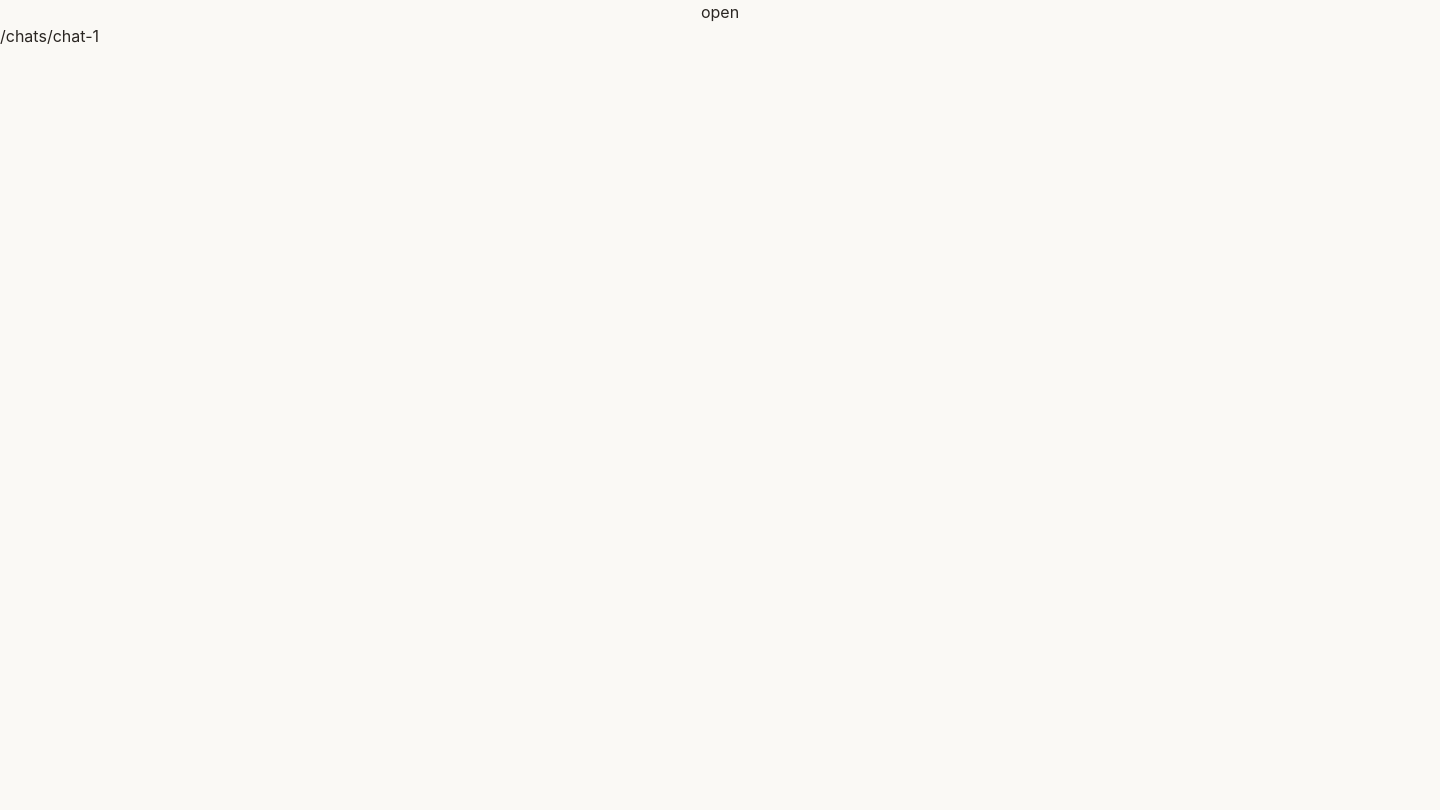
it: CommandPalette › switches language instantly; the palette relabels on next open
Step 1. Press k
(page scrolled)
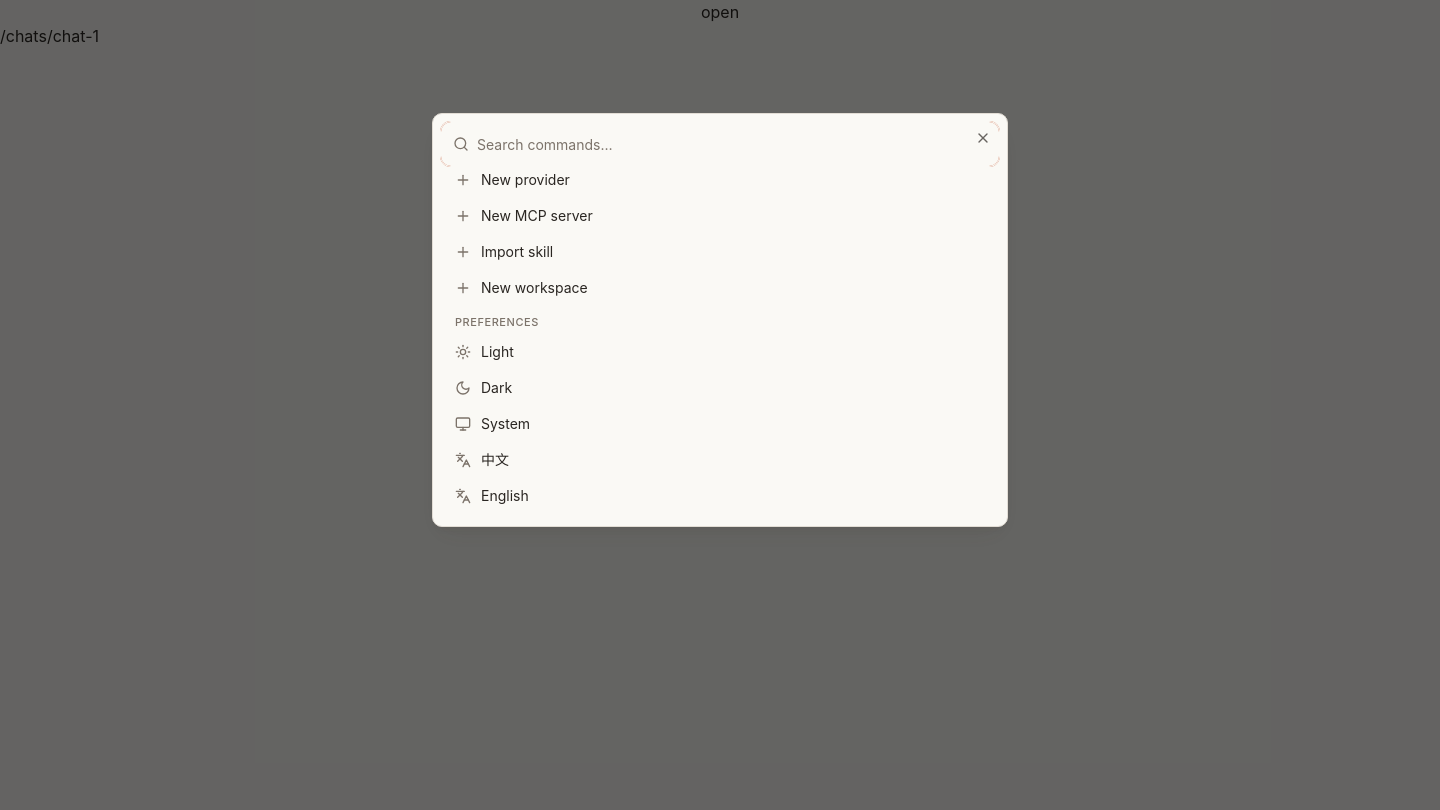
Result: the dialog is shown at [432,113,1008,527]
Step 2. Click the option "中文" → (463, 460), box [445,442,995,478]
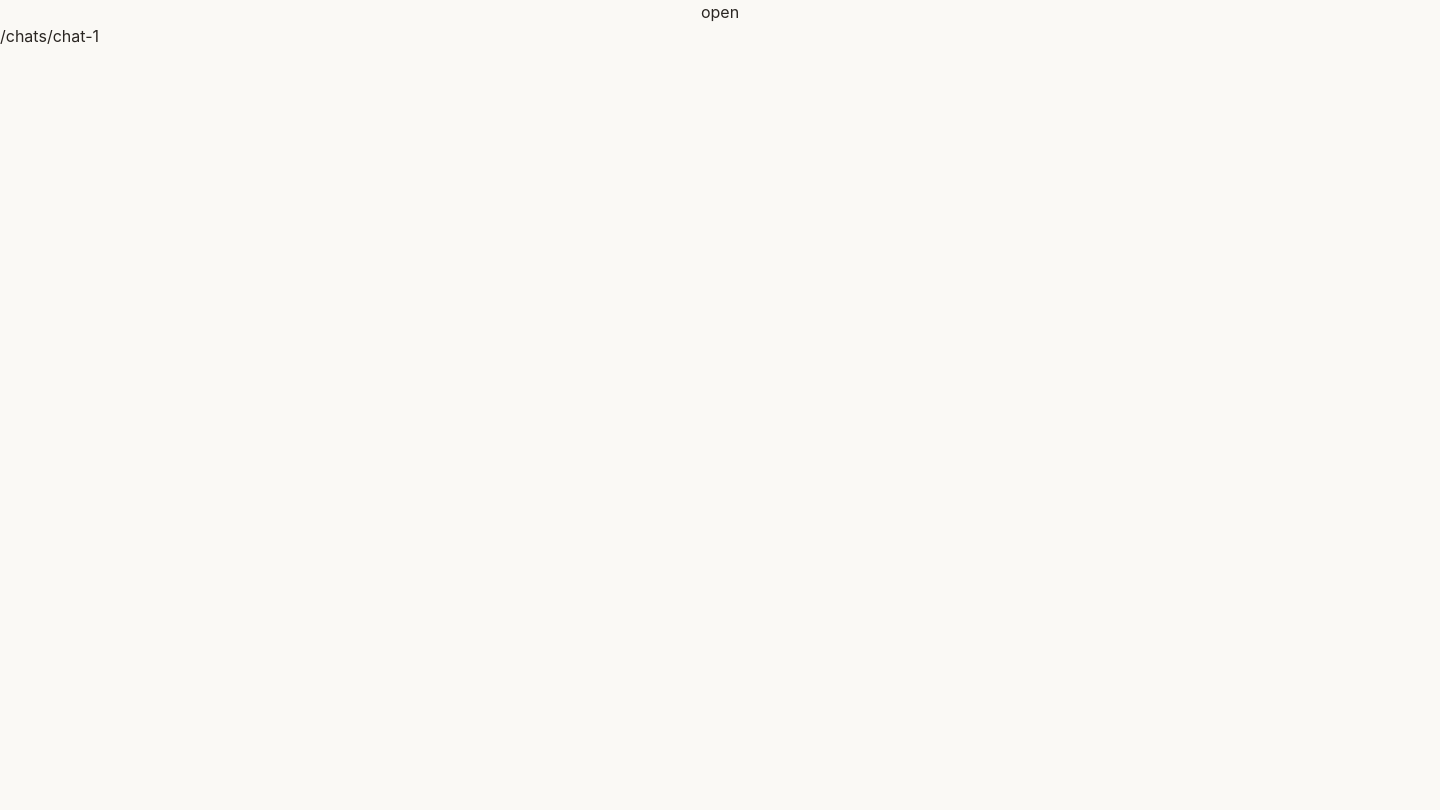
Result: the dialog is gone
Step 3. Press k
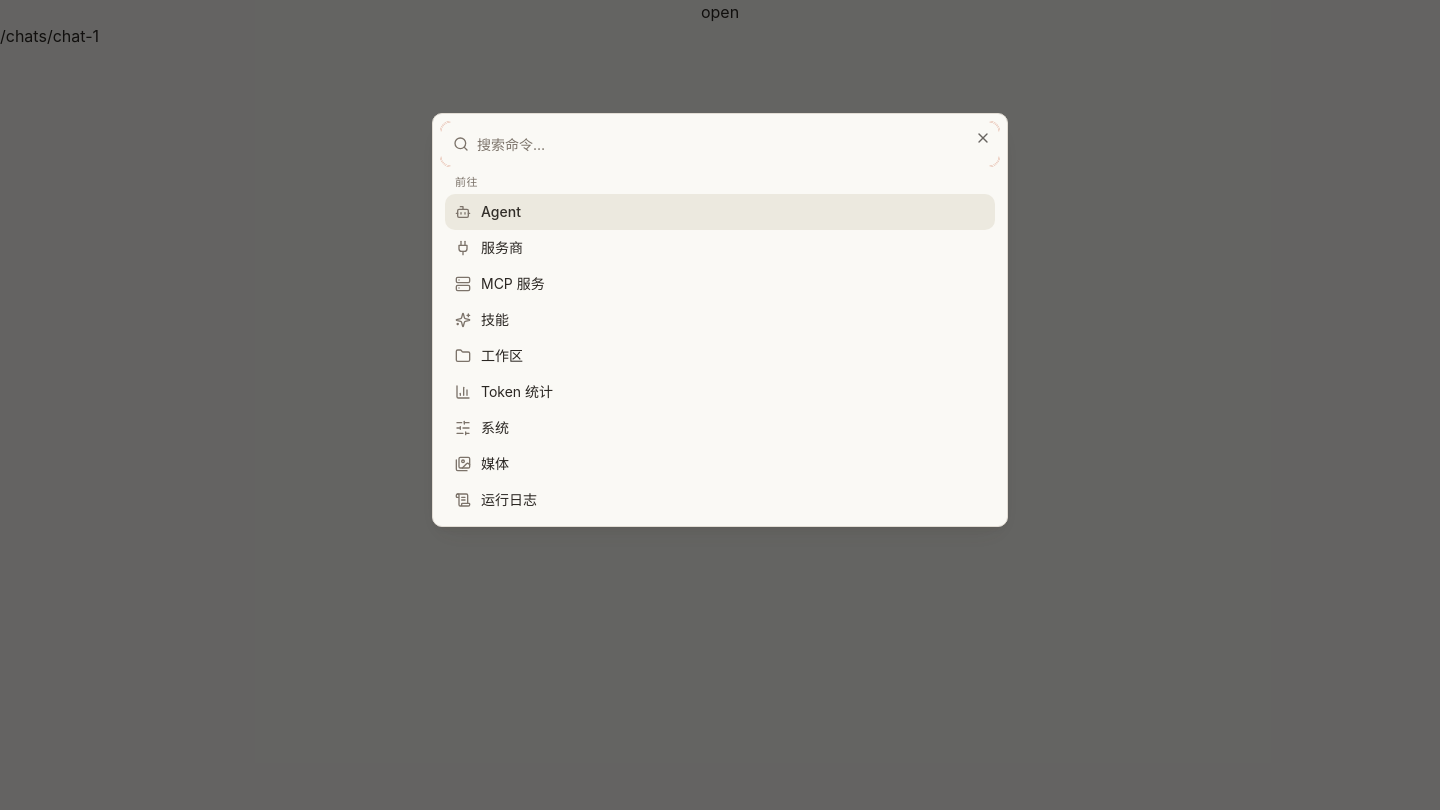
Result: the field with placeholder "搜索命令…" is shown at [441,122,999,166]
